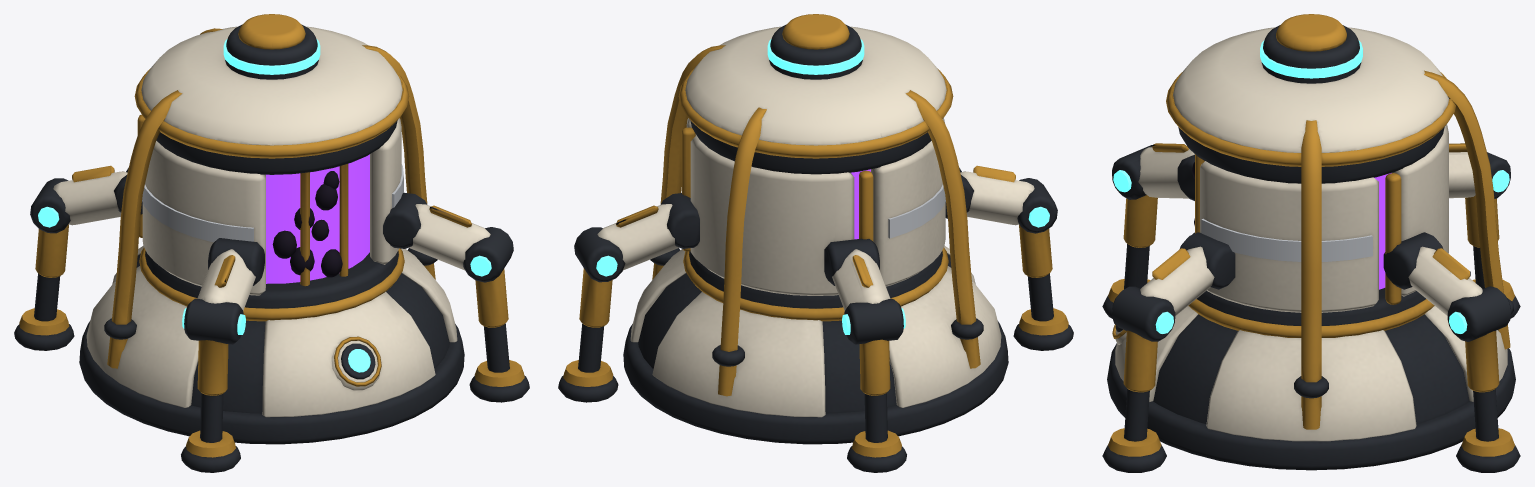
Rendered from ambron_void_machine.glb.
The picture shows the model from 3 angles, left to right: view 1: azimuth 30°, elevation 25°; view 2: azimuth 150°, elevation 25°; view 3: azimuth 270°, elevation 25°; orthographic projection. The views are drawn at different scales.
Parts seen in each view (by area): view 1: ambron_void_machine; view 2: ambron_void_machine; view 3: ambron_void_machine.
Boxes of the visible parts, x1=… form: ambron_void_machine: x1=14, y1=14, x2=529, y2=472; ambron_void_machine: x1=558, y1=14, x2=1073, y2=472; ambron_void_machine: x1=1102, y1=14, x2=1520, y2=472.
Bounding box in the file's own units: 2.63 × 2.52 × 2.64.
Materials: 4 (1 with a texture image).
